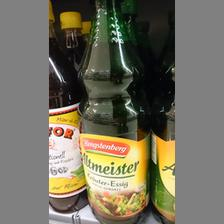Essig: (76, 0, 152, 224), (48, 0, 88, 212)
